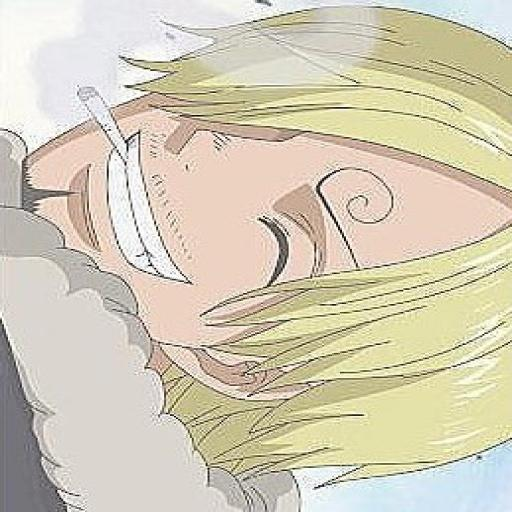sanji: (0, 0, 510, 506)
